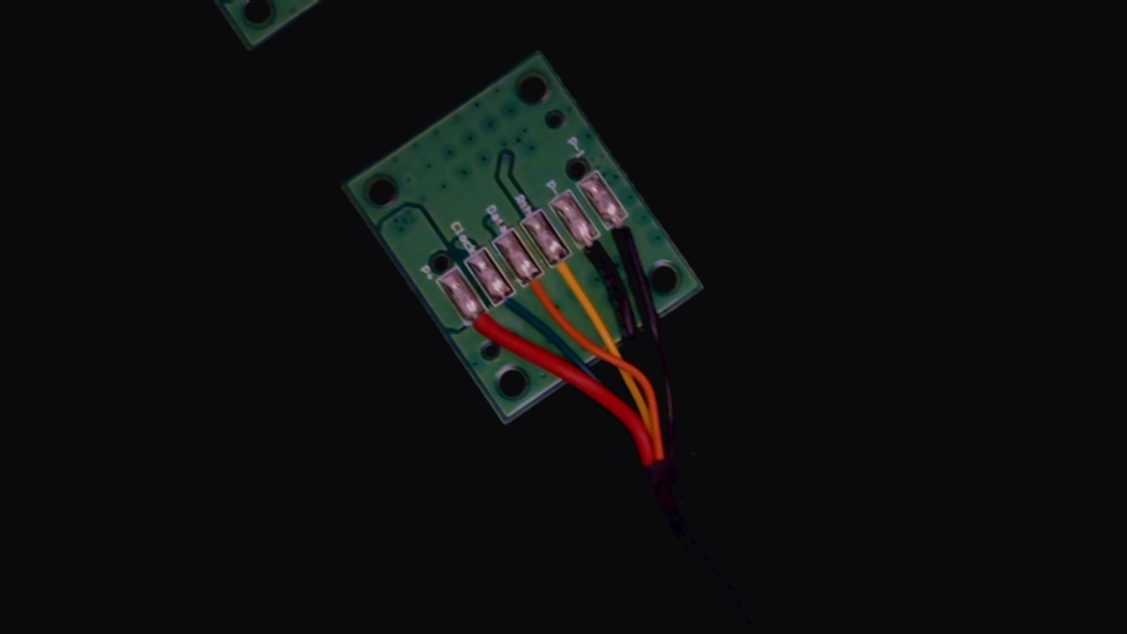Black: (568, 220, 625, 286)
Black1: (598, 203, 655, 268)
Green: (487, 281, 537, 339)
Orange: (511, 256, 570, 324)
Red: (460, 298, 511, 355)
Yellow: (540, 240, 596, 304)
